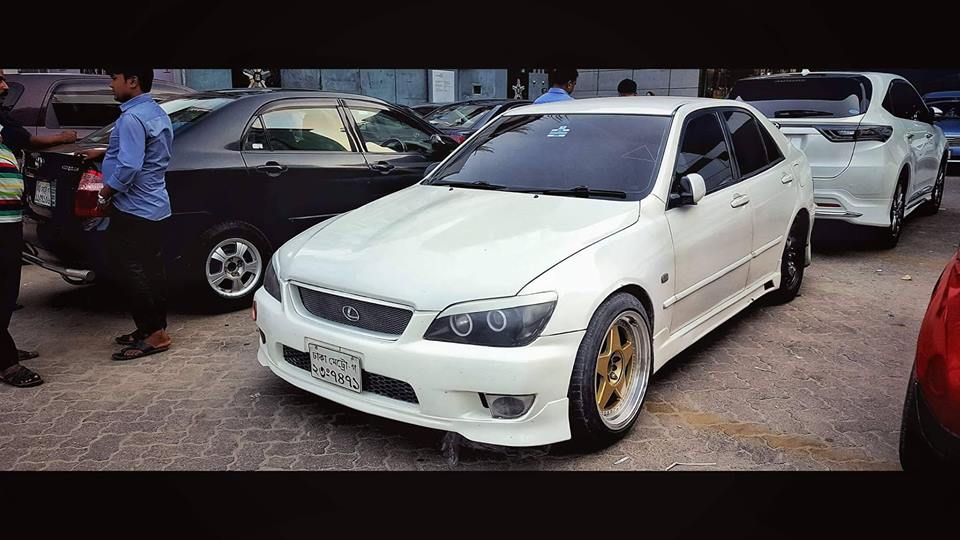registration_plate: (308, 342, 363, 395)
